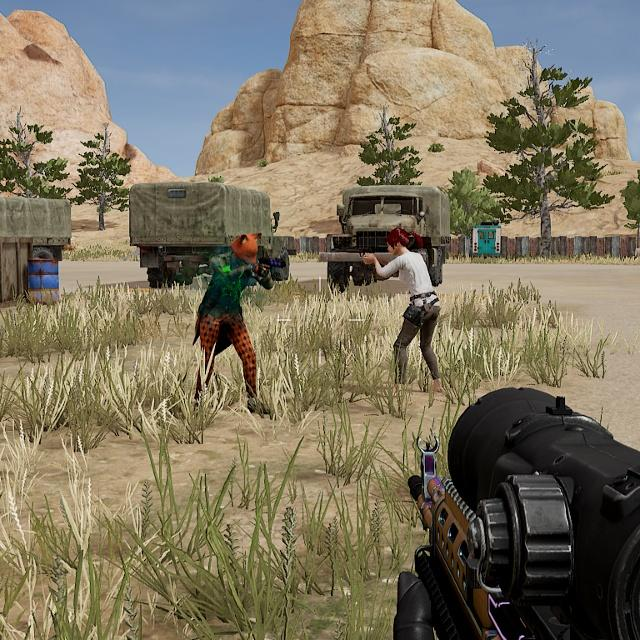head: (225, 224, 269, 274), (384, 218, 420, 260)
people: (181, 221, 296, 430), (361, 211, 457, 408)
